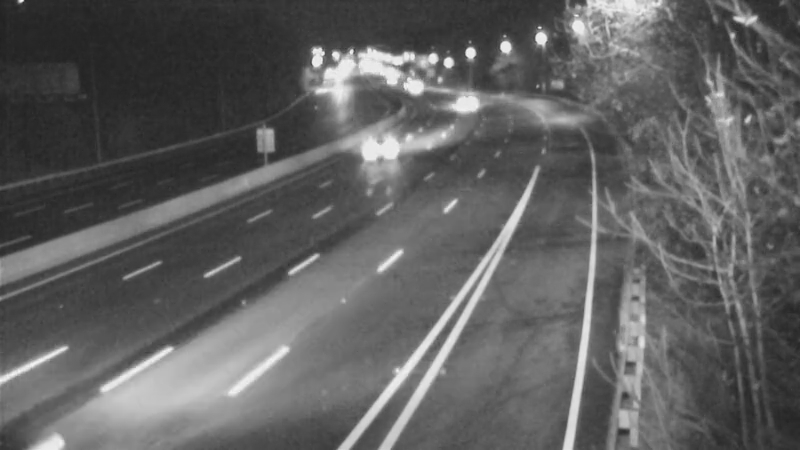vehicle: (337, 111, 417, 191), (388, 62, 438, 112), (436, 73, 486, 123)
